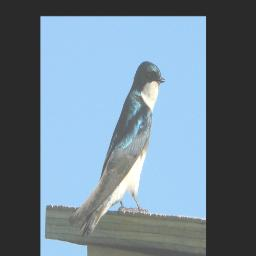Swallow: (67, 60, 166, 240)
